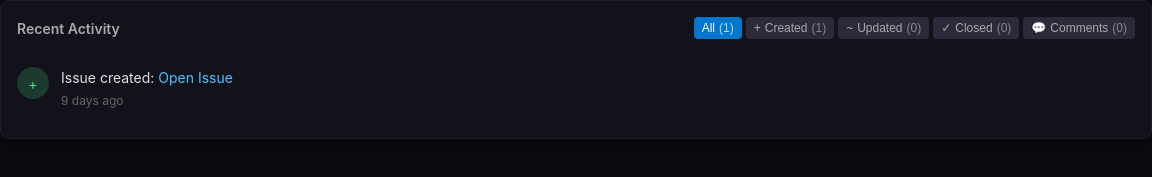
ActivityFeed › filtering › shows empty message when filter has no results
The width and height of the screenshot is (1152, 177).
Click the button "✓Closed(0)" at (976, 28), box x1=933 y1=17 x2=1019 y2=39
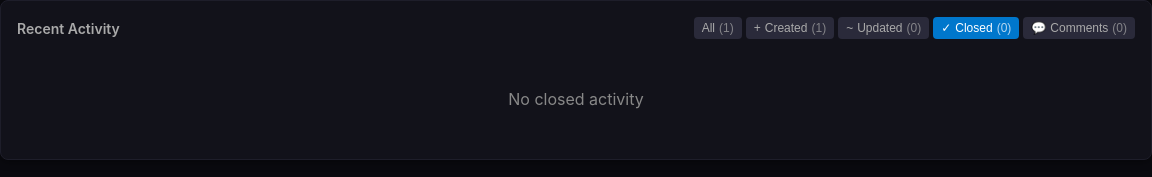
Check: the text "No closed activity" is shown, box x1=508 y1=89 x2=644 y2=109
